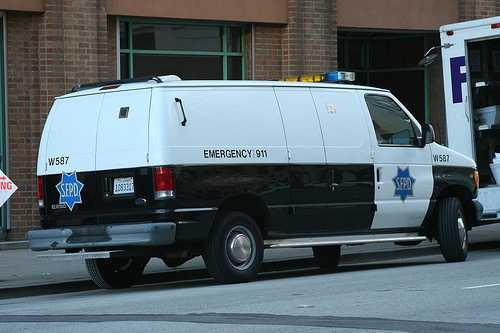Ambulance: (20, 70, 489, 283)
